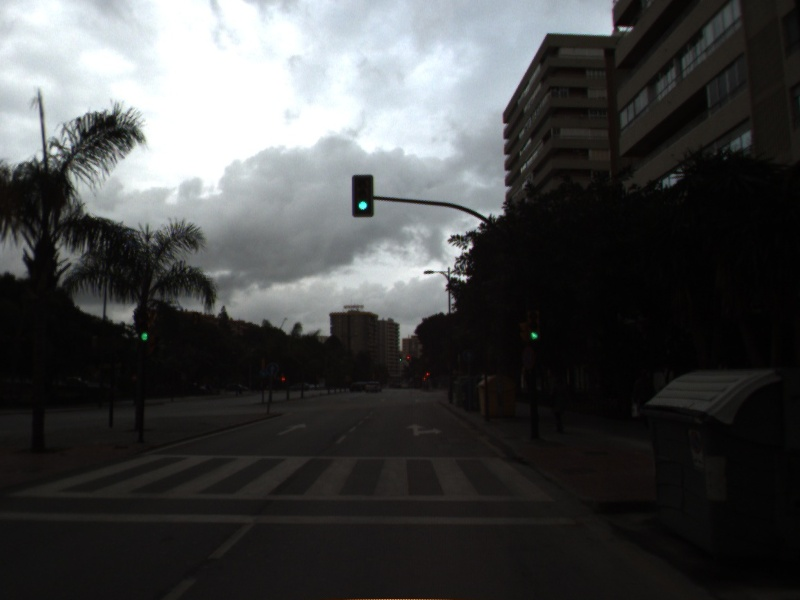STRAIGHT: (274, 420, 309, 437)
STRAIGHT_RIGHT: (404, 421, 445, 438)
